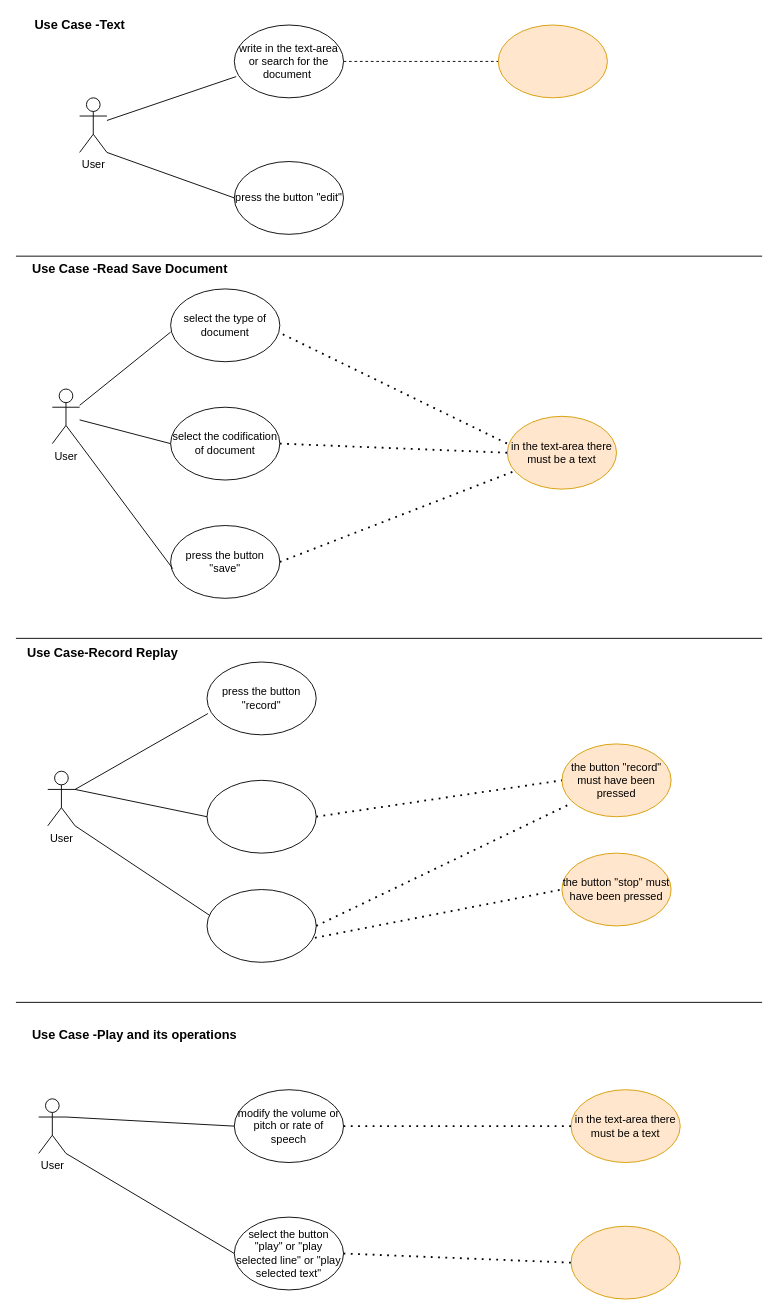
The diagram is 778 pixels wide and 1315 high, and some of its shapes have lost their labels. The centre of each missing label's shape, as x and y in pixels:
press the button "replay": point 261,925
press the button "stop" in order to stop the recording: point 261,816
the document exists: point 552,61
volume,pitch and rate must have been modified: point 625,1262
